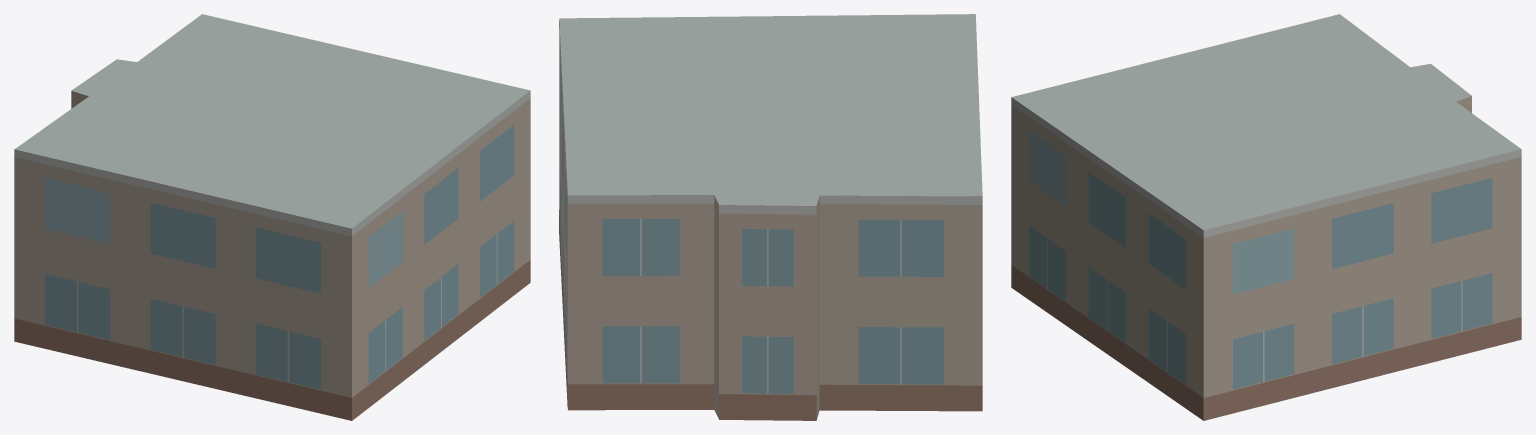
Rendered from survey-upis-32659844.glb.
3 views of the same model, side by side, from view 1: azimuth 30°, elevation 25°; view 2: azimuth 150°, elevation 25°; view 3: azimuth 270°, elevation 25° (orthographic). The views are drawn at different scales.
Visible parts, largest first — view 1: survey-upis-32659844.tmp; view 2: survey-upis-32659844.tmp; view 3: survey-upis-32659844.tmp.
Part boxes in pixels (x1,y1,x2,y2): survey-upis-32659844.tmp: [14, 14, 530, 420]; survey-upis-32659844.tmp: [559, 14, 982, 420]; survey-upis-32659844.tmp: [1011, 14, 1521, 420].
Bounding box in the file's own units: 14.87 × 6.1 × 14.82.
